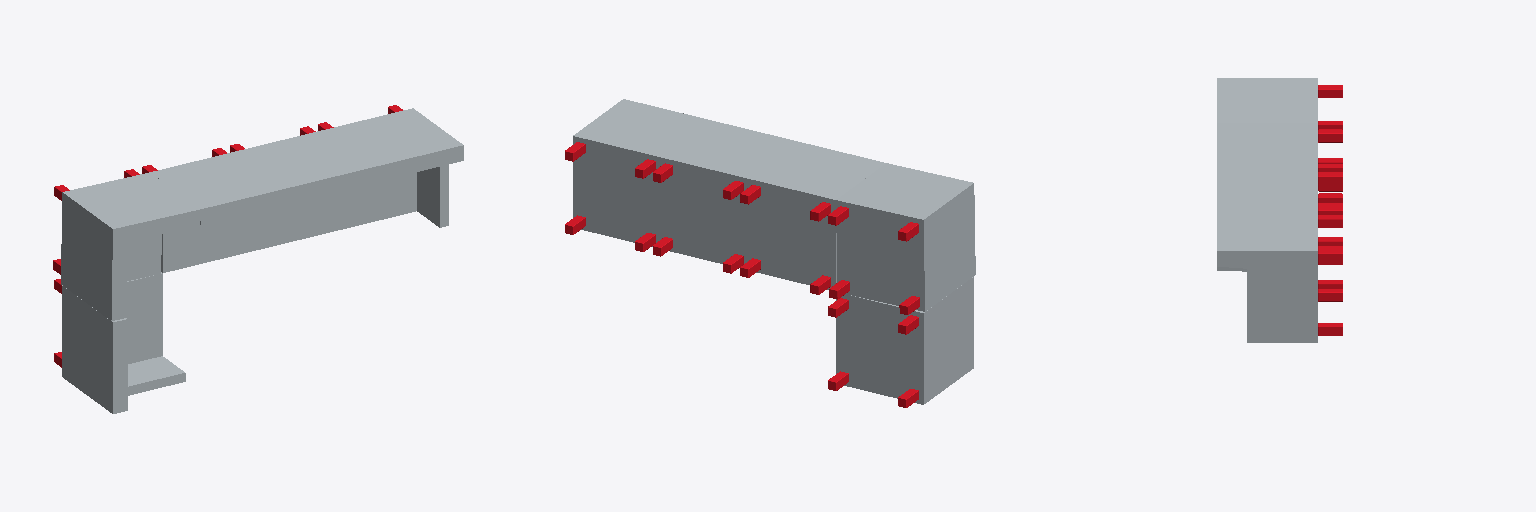
File: tinker.obj
3 renders of one model, left to right at view 1: azimuth 30°, elevation 25°; view 2: azimuth 150°, elevation 25°; view 3: azimuth 270°, elevation 25°, orthographic.
Parts seen in each view (by area): view 1: obj_0; view 2: obj_0; view 3: obj_0.
Part boxes in pixels (x1,y1,x2,y2): obj_0: (53, 105, 463, 413); obj_0: (565, 99, 975, 407); obj_0: (1217, 78, 1342, 342).
Bounding box in the file's own units: 80.35 × 40.35 × 25.